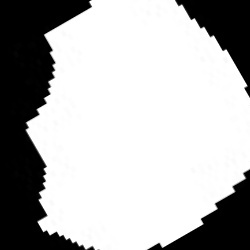spot: (24, 1, 249, 249)
